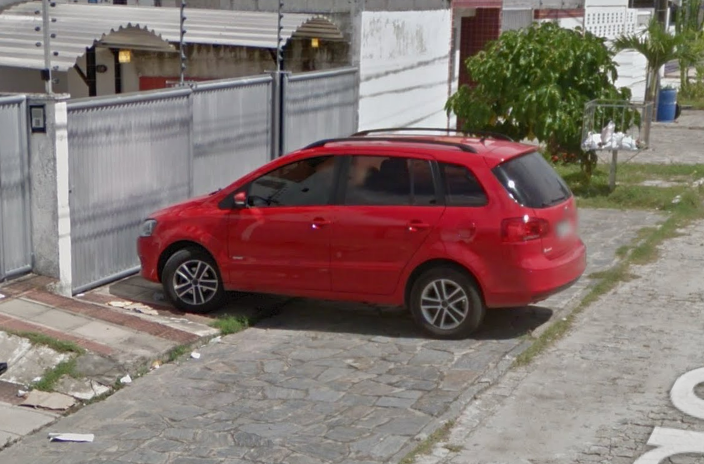car: (136, 124, 591, 343)
